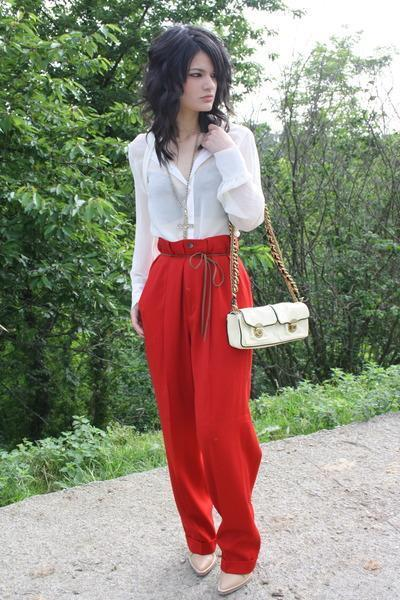bag: (227, 302, 312, 353)
pants: (137, 233, 262, 574)
shirt: (121, 114, 267, 308)
shoe: (195, 544, 249, 599)
